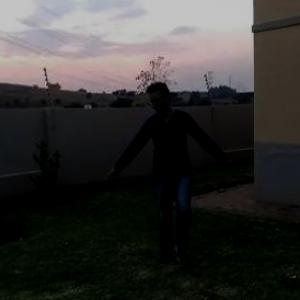land: (100, 83, 241, 273)
